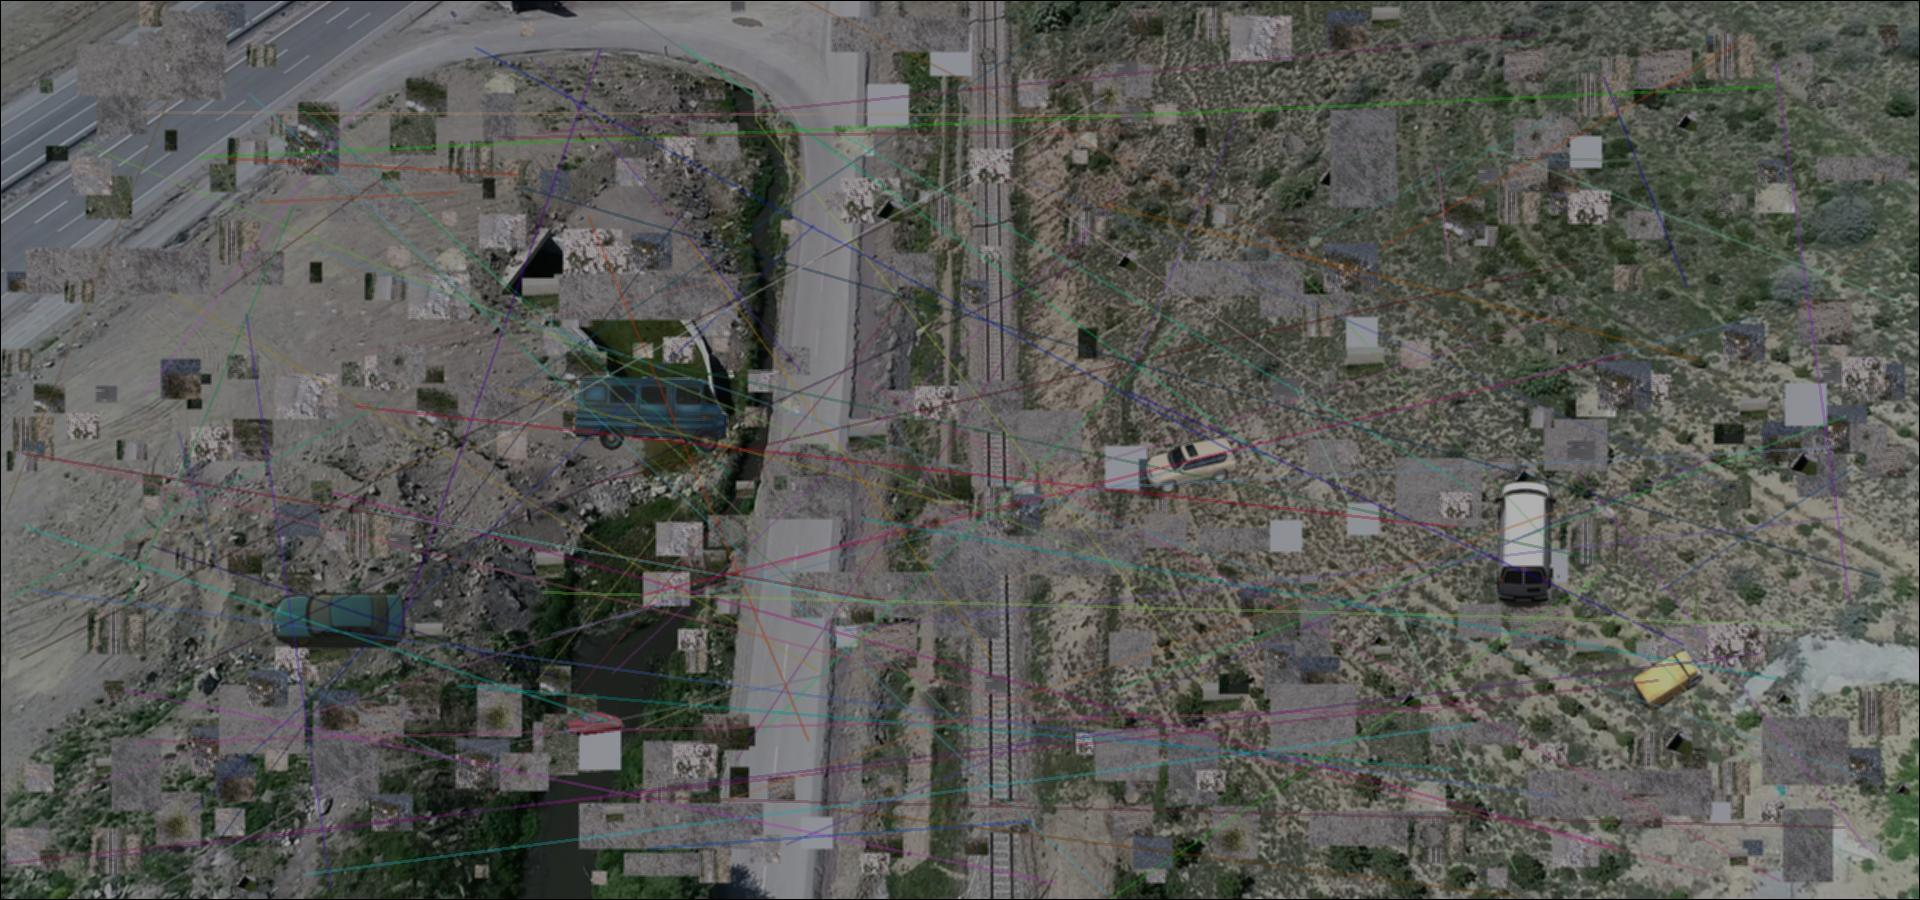arac: (573, 375, 729, 456), (1491, 479, 1559, 609), (271, 589, 411, 648), (1142, 437, 1239, 493), (1633, 645, 1704, 710), (563, 711, 624, 738)
